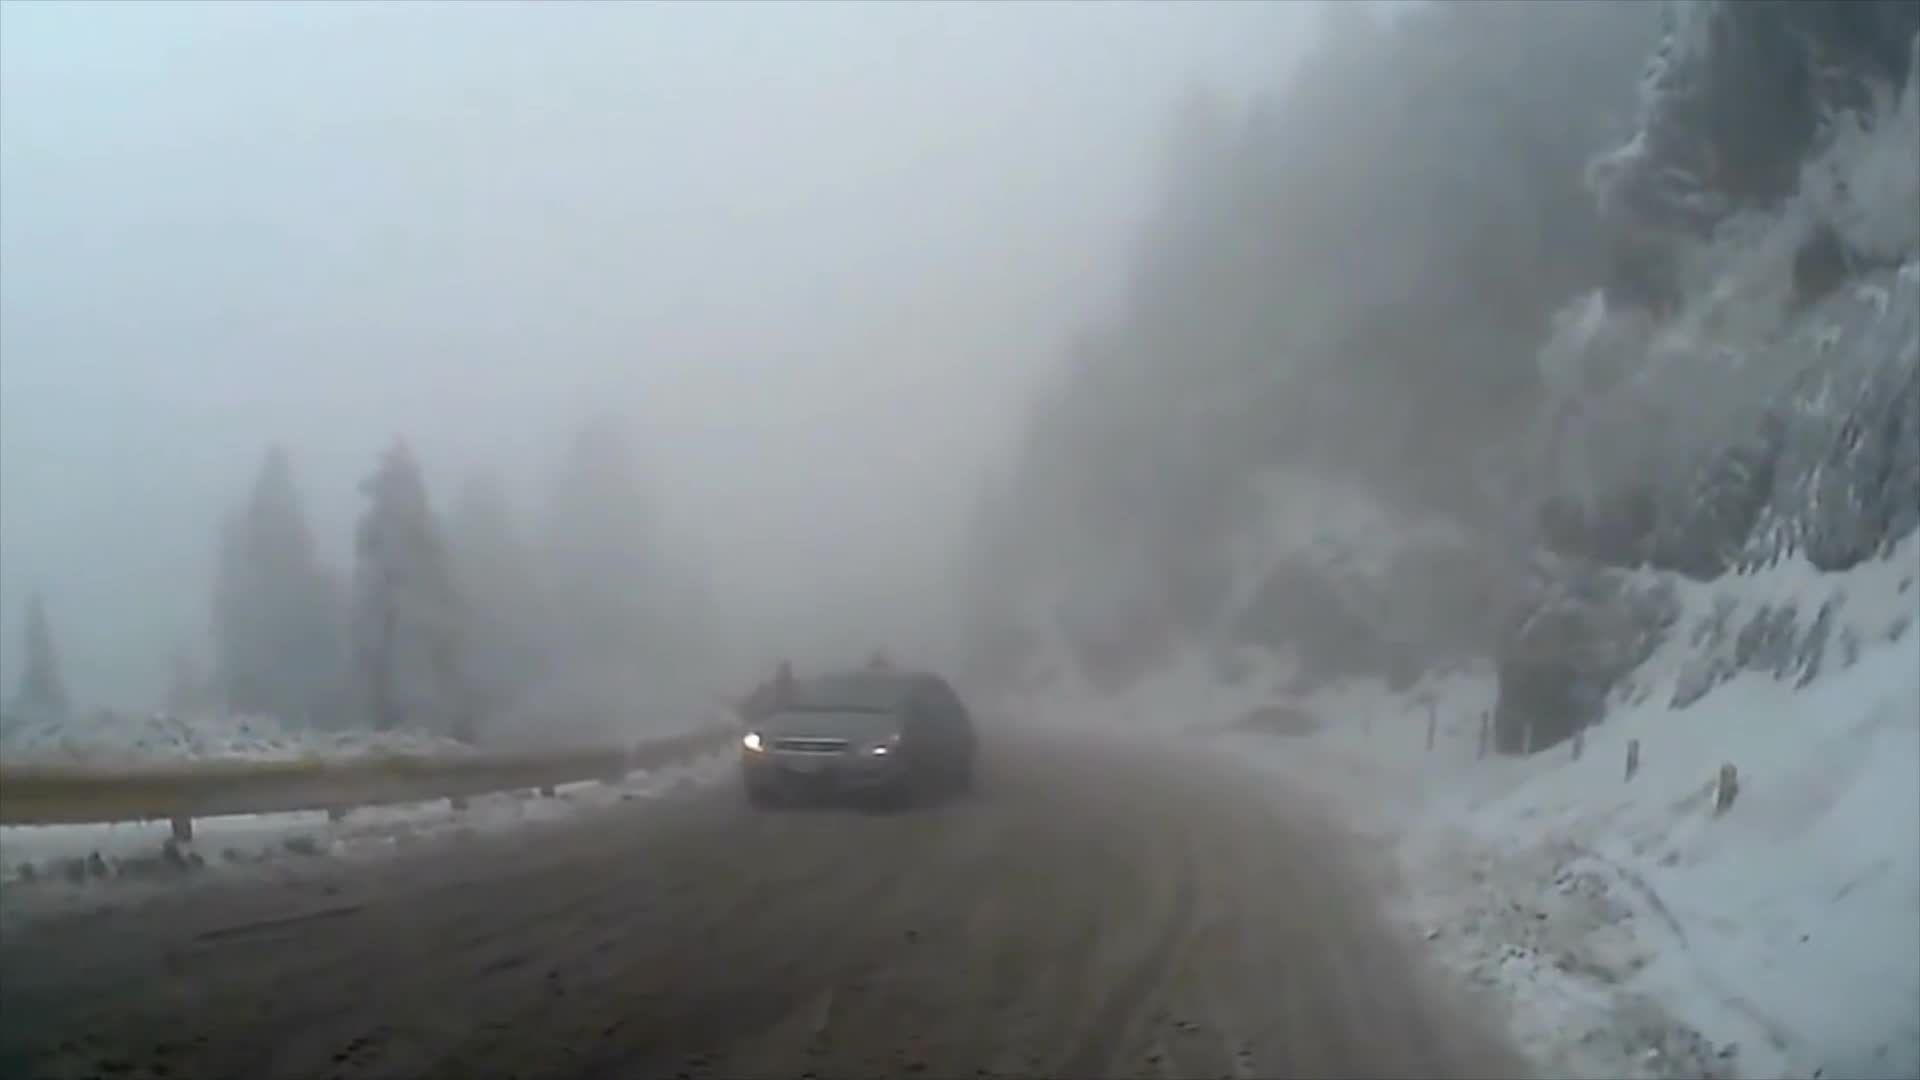vehicle: (740, 670, 977, 812)
